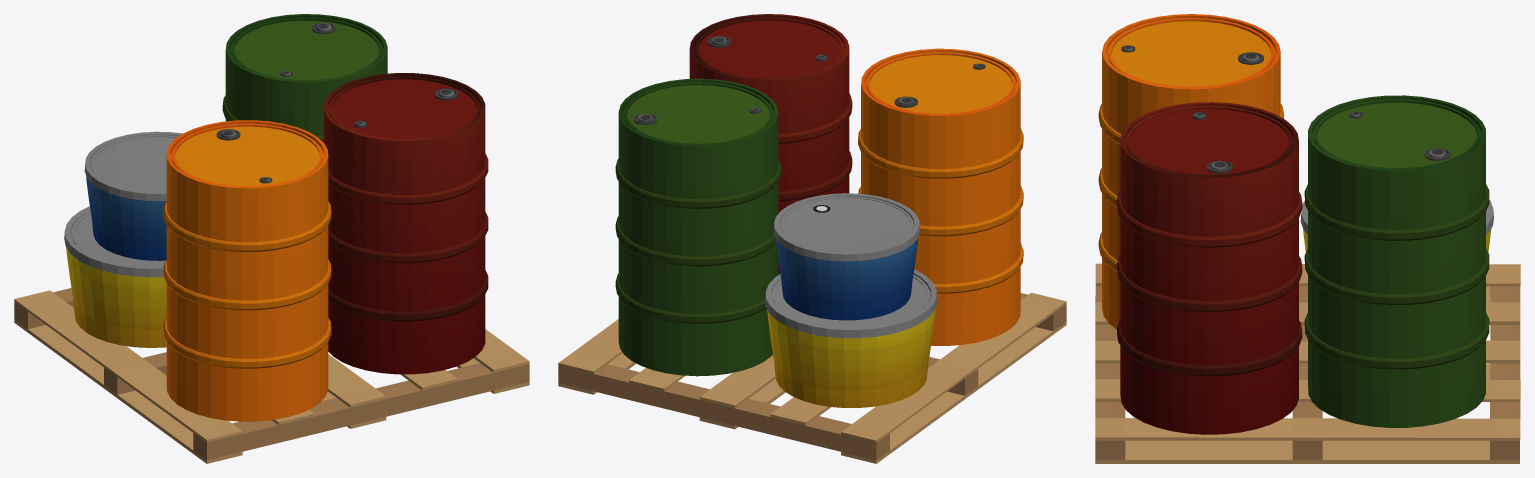
Rendered from Large Industrial Barrel Pallet.fbx.
The picture shows the model from 3 angles, left to right: view 1: azimuth 30°, elevation 25°; view 2: azimuth 150°, elevation 25°; view 3: azimuth 270°, elevation 25°; orthographic projection. The views are drawn at different scales.
Visible parts, largest first — view 1: Large Industrial Barrel Pallet; view 2: Large Industrial Barrel Pallet; view 3: Large Industrial Barrel Pallet.
Boxes of the visible parts, x1=… form: Large Industrial Barrel Pallet: x1=14, y1=14, x2=529, y2=463; Large Industrial Barrel Pallet: x1=558, y1=14, x2=1066, y2=463; Large Industrial Barrel Pallet: x1=1095, y1=14, x2=1520, y2=463.
Bounding box in the file's own units: 474 × 642 × 620.
1 material, 1 textured.
